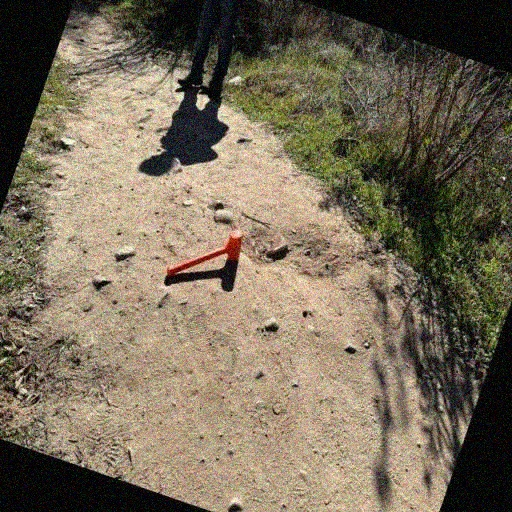mallet: (164, 212, 247, 297)
